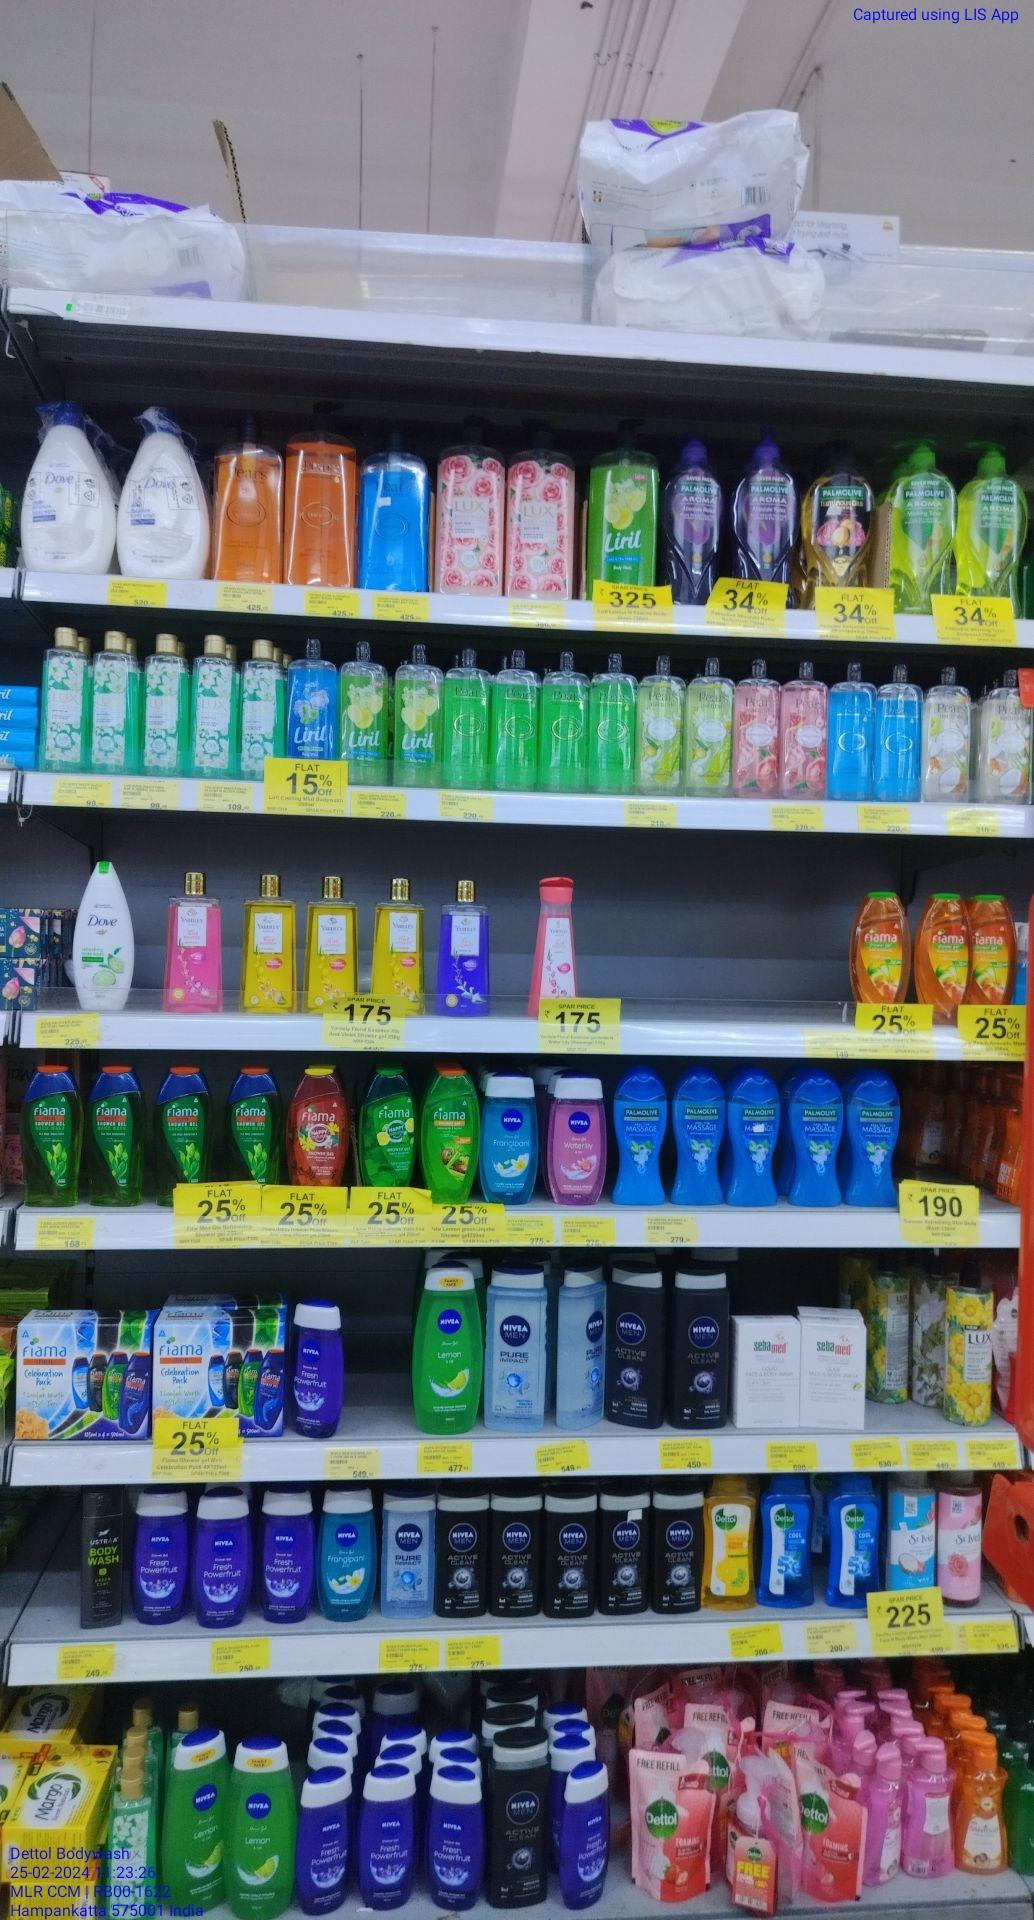Dettol_Bodywash_Cool: (761, 1474, 815, 1608), (829, 1473, 880, 1607)
Dettol_Bodywash_Refresh: (705, 1478, 758, 1611)
Fiama_Shower_Gel_Lemongrass_and_Jojoba_250ML: (423, 1069, 480, 1204)
Fiama_Shower_Gel_Peach_and_Avocado_250ML: (852, 890, 912, 1024), (917, 891, 970, 1025), (973, 894, 1019, 1015)
Lux_Body_Wash_Skin_Detox_Freesia_Scent_and_Alove_Vera_245ML: (191, 634, 237, 777), (42, 624, 87, 770), (242, 638, 285, 780), (145, 632, 187, 774), (93, 630, 135, 772)
Nivea_Shower_Gel_Frangipani_and_Oil_250ML: (321, 1490, 374, 1622), (484, 1075, 535, 1204)
Nivea_Shower_Gel_Lemon_and_Oil_250ML: (411, 1267, 479, 1431)
Nivea_Shower_Gel_Waterlily_and_Oil_250ML: (550, 1076, 604, 1204)
Palmolive_Aroma_Moments_Feel_The_Massage_Shower_Gel_250ML: (727, 1075, 779, 1204), (614, 1069, 665, 1202), (674, 1072, 725, 1204), (849, 1075, 899, 1207), (791, 1080, 842, 1206)
